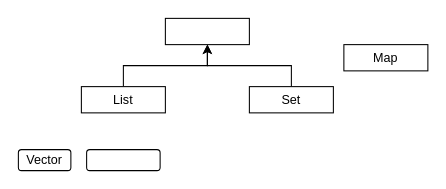
The diagram is 446 pixels wide and 189 high, and some of its shapes have lost their labels. The shapes that lost their labels are listed below. From the top down, each one's centre as x and y in pixels, then its label:
At [206,31]: "Collection".
At [123,160]: "ArrayList".
